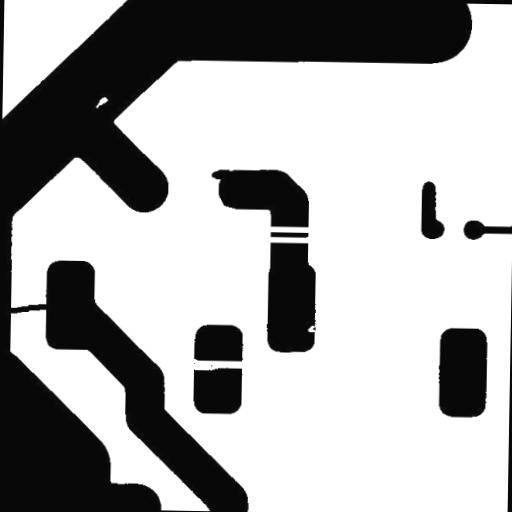mousebite: (300, 318, 323, 340)
open: (256, 218, 321, 250), (184, 350, 252, 378)
pin-hole: (88, 89, 115, 116)
short: (0, 296, 59, 322)
spur: (204, 162, 238, 188)
